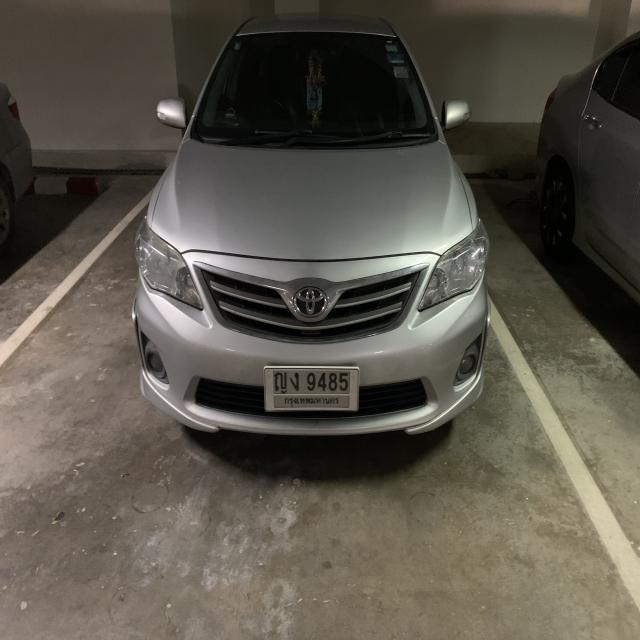license_plate: (264, 366, 362, 413)
